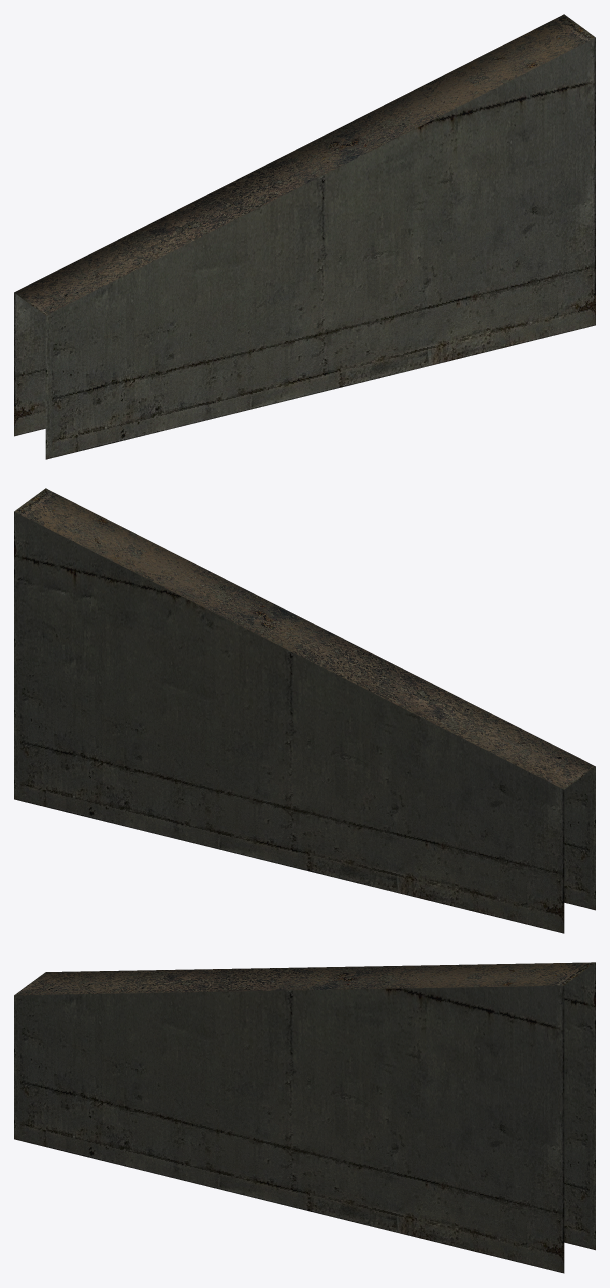
Rendered from wall_top_part_rg_2.glb.
3 renders of one model, top to bottom at view 1: azimuth 30°, elevation 25°; view 2: azimuth 150°, elevation 25°; view 3: azimuth 330°, elevation 25°, orthographic.
Visible parts, largest first — view 1: wall_top_part_rg_2; view 2: wall_top_part_rg_2; view 3: wall_top_part_rg_2.
Part boxes in pixels (x1,y1,x2,y2): wall_top_part_rg_2: [14, 14, 595, 459]; wall_top_part_rg_2: [14, 488, 595, 933]; wall_top_part_rg_2: [14, 962, 595, 1273].
Size of the model in its own units: 4 by 2 by 0.4.
Materials: 2 (2 with a texture image).
